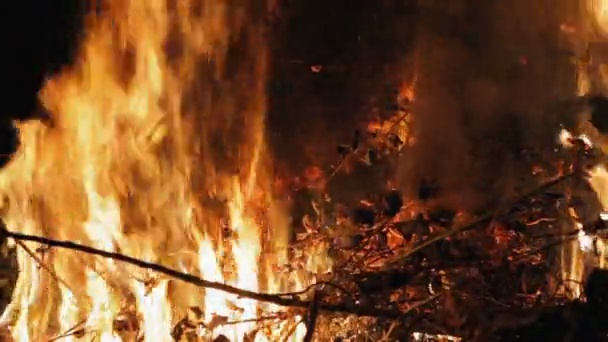fire: (1, 1, 309, 341), (556, 128, 608, 298)
